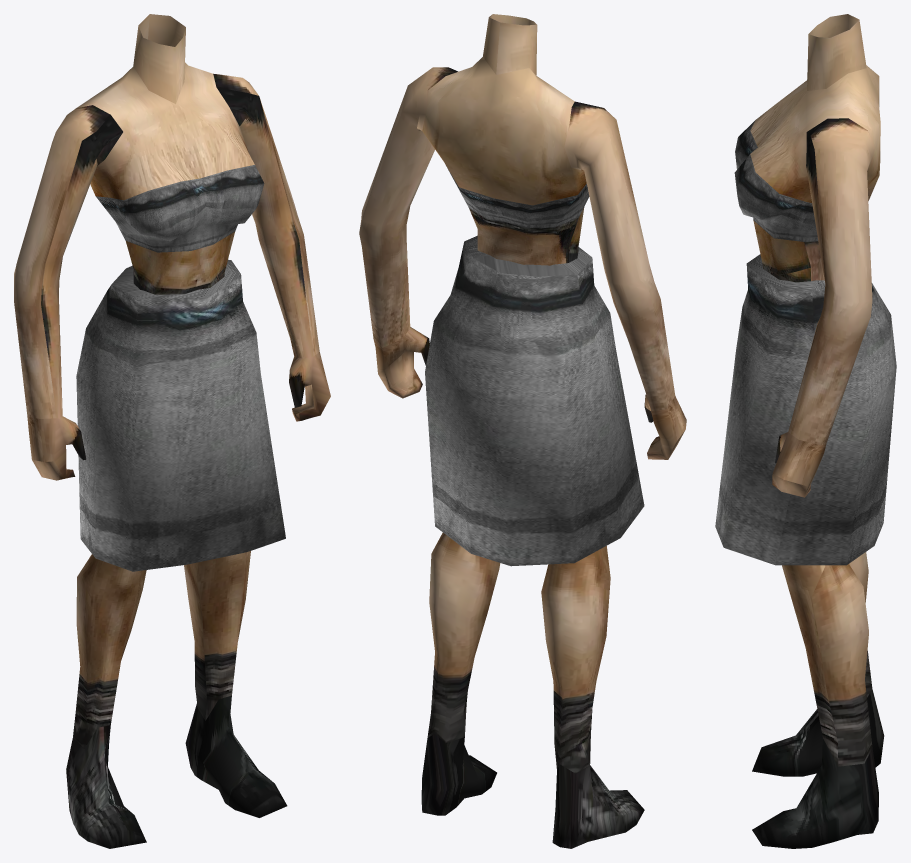
The model's file is GS_BABE_BATH_02.glb.
3 renders of one model, left to right at view 1: azimuth 30°, elevation 25°; view 2: azimuth 150°, elevation 25°; view 3: azimuth 270°, elevation 25°, orthographic. The views are drawn at different scales.
Parts seen in each view (by area): view 1: GS_BABE_BATH_02; view 2: GS_BABE_BATH_02; view 3: GS_BABE_BATH_02.
Part boxes in pixels (x1,y1,x2,y2): GS_BABE_BATH_02: (14,14,330,848); GS_BABE_BATH_02: (359,14,686,848); GS_BABE_BATH_02: (715,14,896,848).
Size of the model in its own units: 0.6425 by 1.67 by 0.3496.
2 materials, 2 textured.
